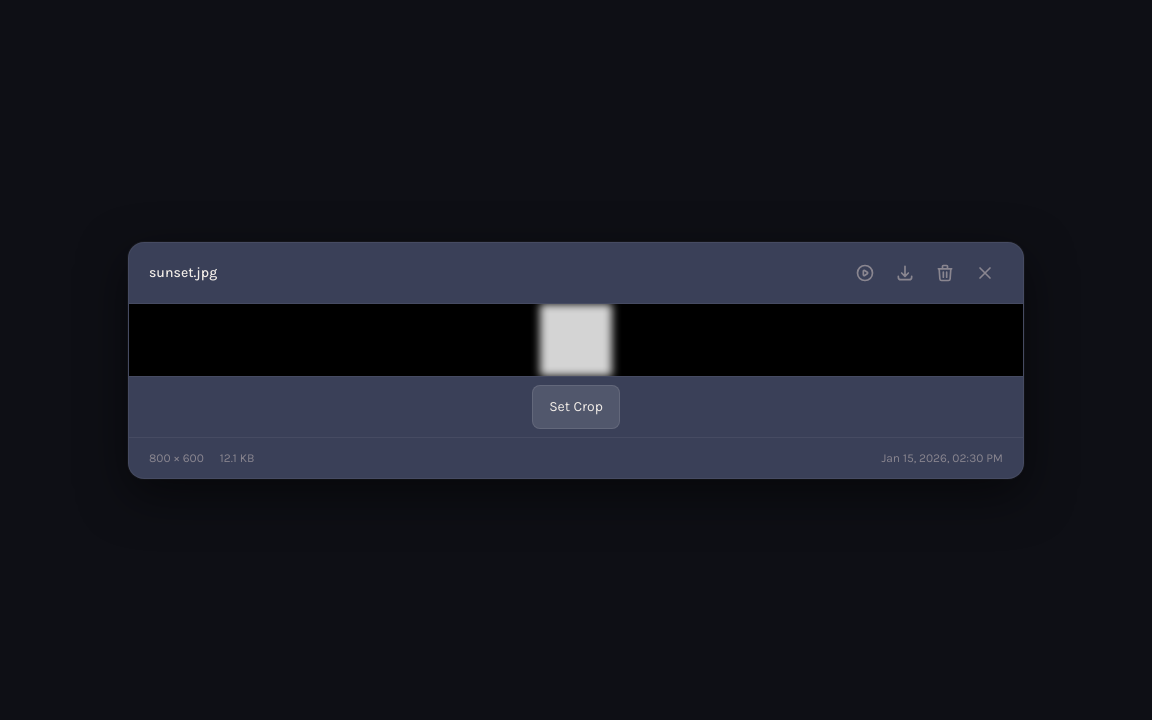
MediaDetailModal › delete button opens ConfirmDialog
Click the button named "Delete" at (945, 272), box 927,254 -> 963,290
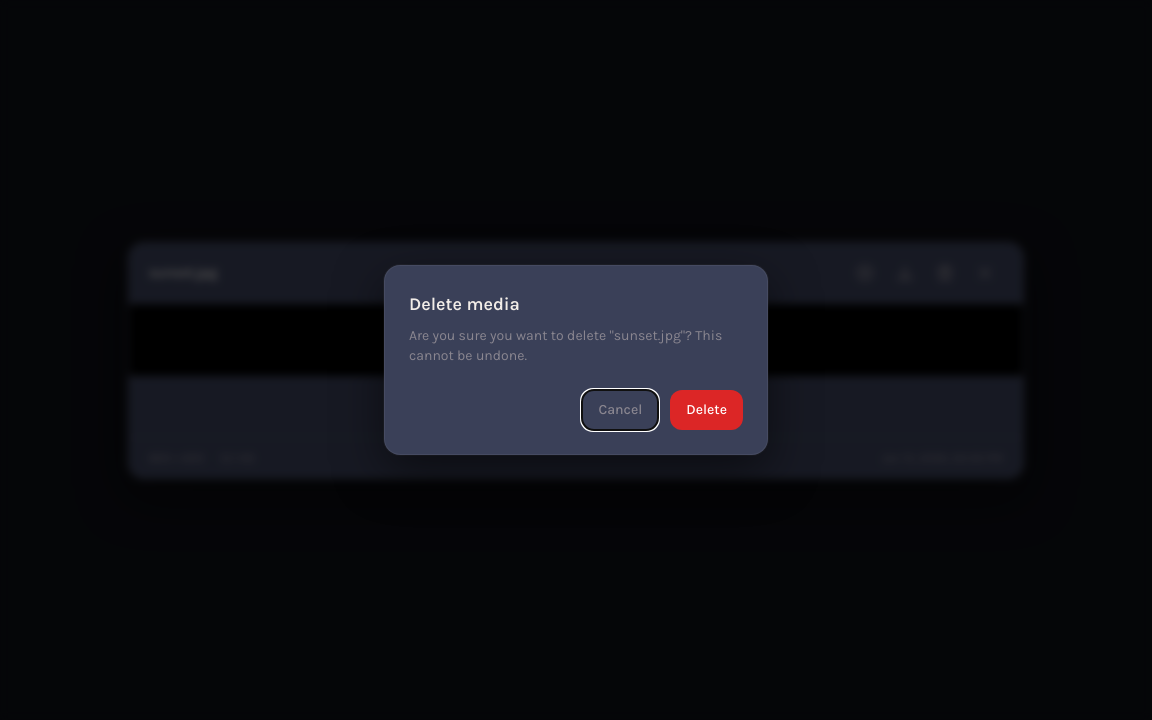
Expected: the heading "Delete media" is shown, 409,293 -> 520,315
Expected: the text "Are you sure you want to delete \"sunset.jpg\"" is shown, 409,327 -> 722,364
